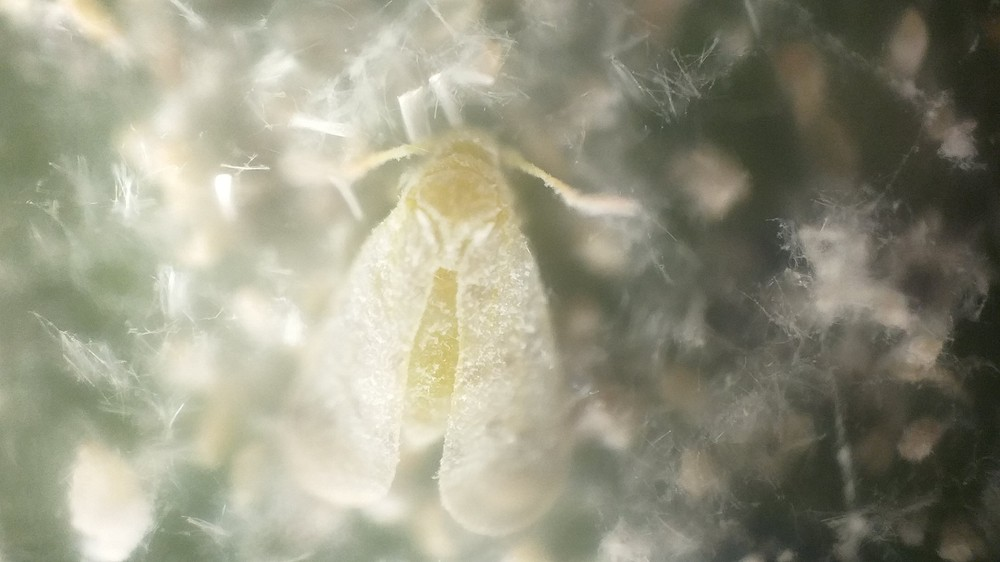Mosca Blanca: (273, 113, 677, 536)
